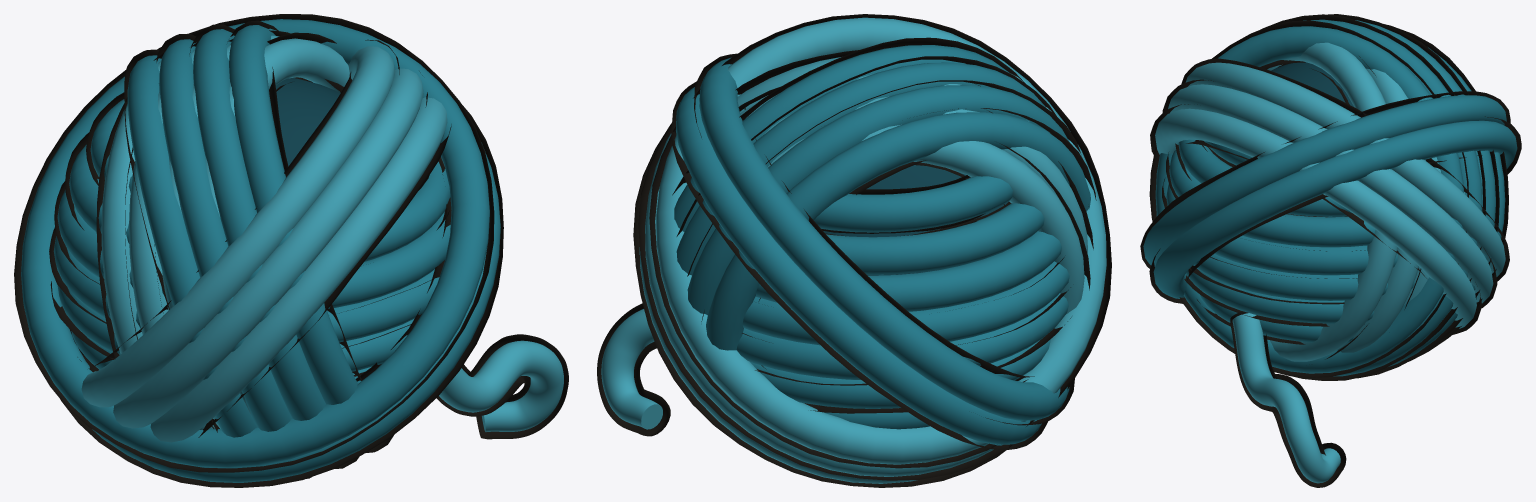
Rendered from yarnball.glb.
3 renders of one model, left to right at view 1: azimuth 30°, elevation 25°; view 2: azimuth 150°, elevation 25°; view 3: azimuth 270°, elevation 25°, orthographic. The views are drawn at different scales.
Visible parts, largest first — view 1: YarnBall, YarnBall_outline; view 2: YarnBall, YarnBall_outline; view 3: YarnBall, YarnBall_outline.
Part boxes in pixels (bbox=[...]): YarnBall: bbox=[21, 19, 563, 482]; YarnBall_outline: bbox=[14, 14, 568, 487]; YarnBall: bbox=[601, 17, 1106, 483]; YarnBall_outline: bbox=[597, 14, 1111, 487]; YarnBall: bbox=[1143, 19, 1517, 483]; YarnBall_outline: bbox=[1140, 14, 1521, 487].
Bounding box in the file's own units: 3.14 × 2.82 × 2.72.
